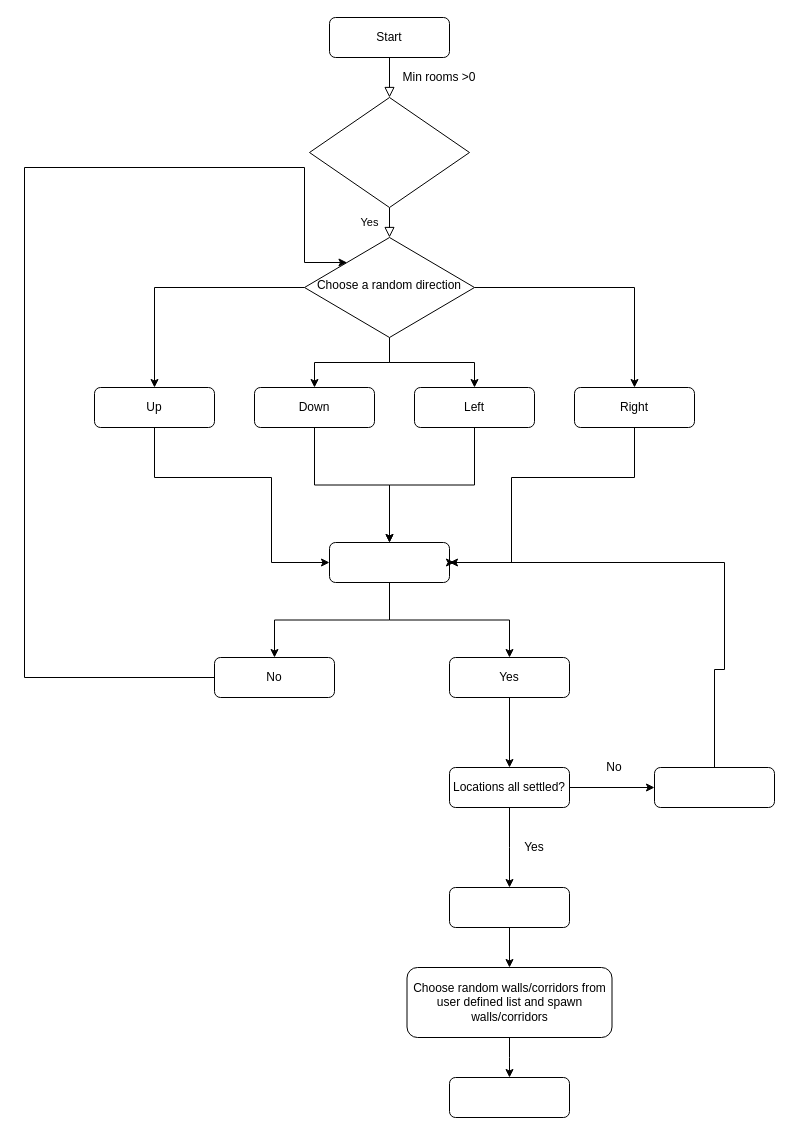
Some shapes in this 792 by 1136 pixel diagram are drawn without their labels. Each missing label, with the box of its shape:
Pick a random spot in a user defined grid size: (308, 96, 470, 208)
Pick next room location: (654, 766, 774, 808)
Spawn room base: (448, 886, 570, 928)
Spawn room layout with contents from user defined list: (448, 1076, 570, 1118)
Within boundary?: (328, 542, 450, 582)
